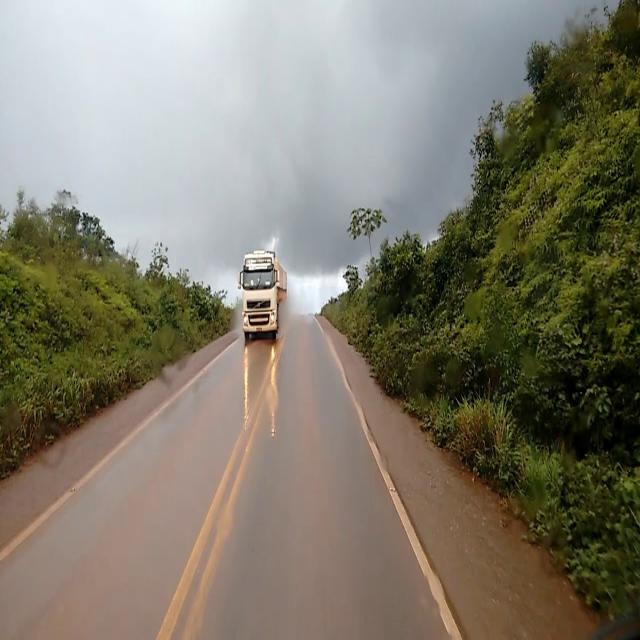bus: (238, 252, 287, 342)
